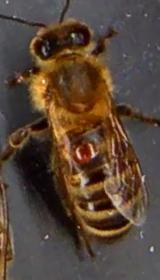varroa_mite: (65, 138, 99, 168)
